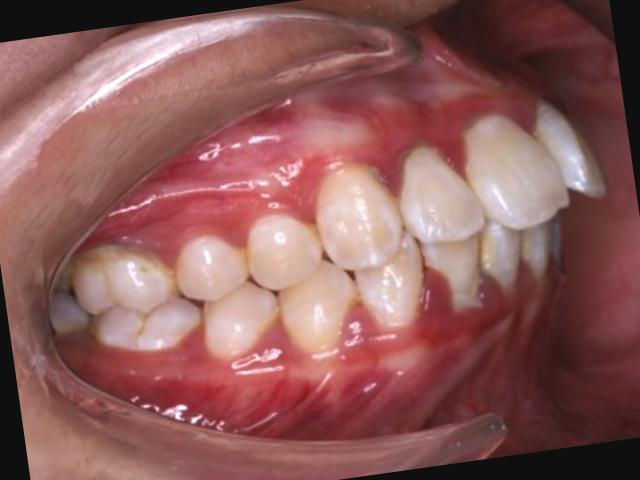canine class II 1/4: (257, 143, 437, 364)
molar class I: (61, 230, 208, 374)
